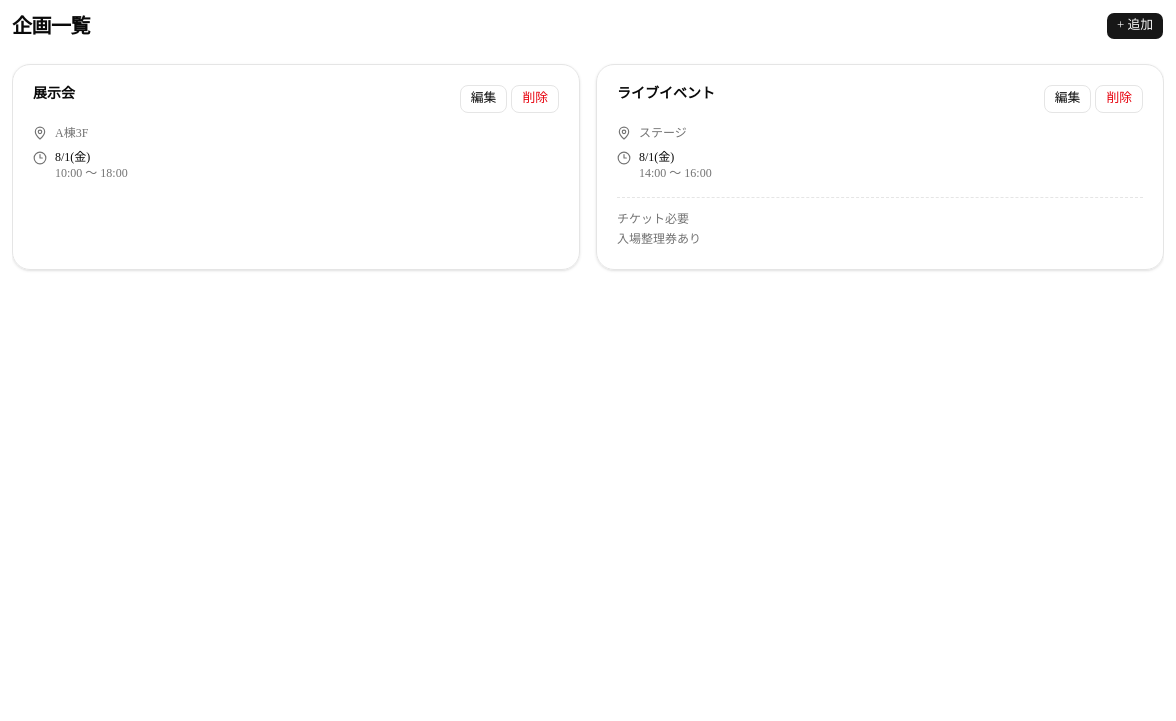
Test: ProgramAdminPanel › キャンセルボタンでフォームを閉じる
Click the button "+ 追加": click(1135, 26) x1=1106 y1=12 x2=1164 y2=40
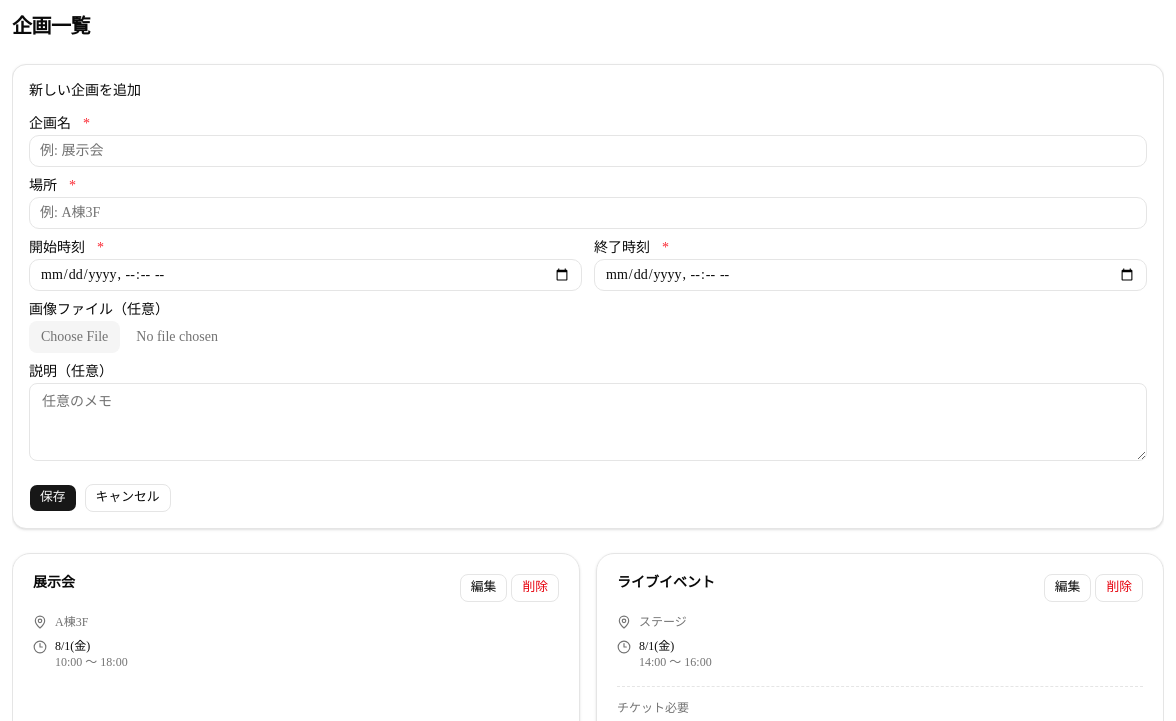
Click the button "キャンセル": click(128, 498) x1=85 y1=484 x2=171 y2=512
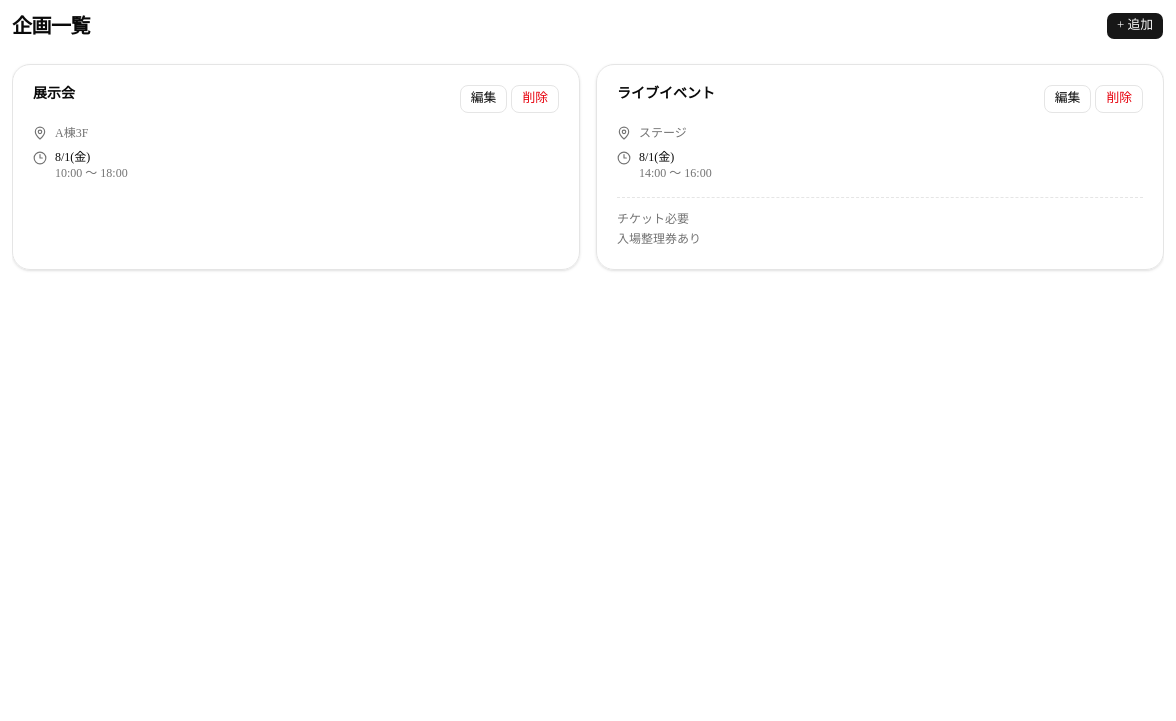
Now the heading "新しい企画を追加" is gone
